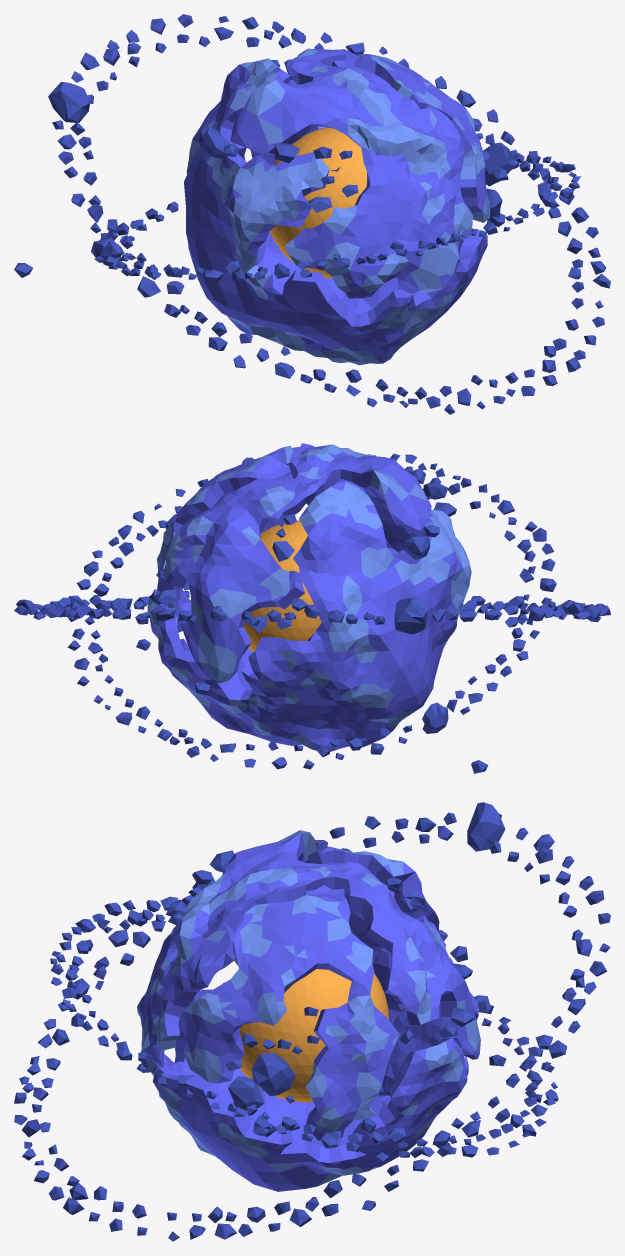
File: planetHoles.fbx
3 renders of one model, top to bottom at view 1: azimuth 30°, elevation 25°; view 2: azimuth 150°, elevation 25°; view 3: azimuth 270°, elevation 25°, orthographic. The views are drawn at different scales.
Parts seen in each view (by area): view 1: asteroid.001, asteroid.002, asteroid.006, asteroid.007, asteroid.003, asteroid.005, asteroid.004; view 2: asteroid.001, asteroid.002, asteroid.007, asteroid.006, asteroid.003, asteroid.004, asteroid.005; view 3: asteroid.001, asteroid.003, asteroid.002, asteroid.006, asteroid.007, asteroid.005, asteroid.004.
Boxes of the visible parts, x1,y1,x2,y2 form: asteroid.001: [184, 58, 487, 365]; asteroid.002: [230, 48, 472, 298]; asteroid.006: [48, 14, 610, 414]; asteroid.007: [14, 153, 580, 283]; asteroid.003: [331, 54, 490, 222]; asteroid.005: [270, 127, 366, 278]; asteroid.004: [198, 60, 514, 226]; asteroid.001: [147, 479, 471, 751]; asteroid.002: [163, 443, 431, 683]; asteroid.007: [67, 453, 556, 773]; asteroid.006: [14, 595, 610, 634]; asteroid.003: [157, 445, 293, 632]; asteroid.004: [136, 468, 456, 694]; asteroid.005: [243, 520, 321, 652]; asteroid.001: [151, 846, 478, 1191]; asteroid.003: [179, 885, 399, 1140]; asteroid.002: [137, 830, 480, 1072]; asteroid.006: [14, 802, 610, 1241]; asteroid.007: [50, 899, 558, 1160]; asteroid.005: [239, 969, 388, 1102]; asteroid.004: [165, 850, 506, 1141].
Bounding box in the file's own units: 36505 × 19363 × 34880.
